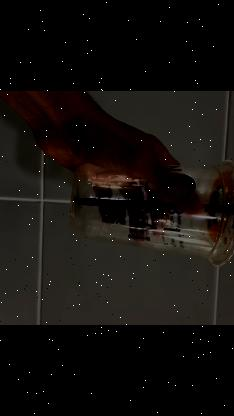Others: (70, 159, 234, 266)
